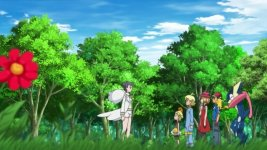greninja: (224, 78, 256, 142)
